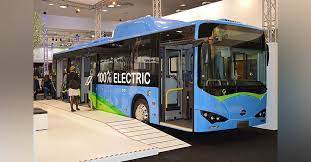bus: (101, 13, 269, 128)
